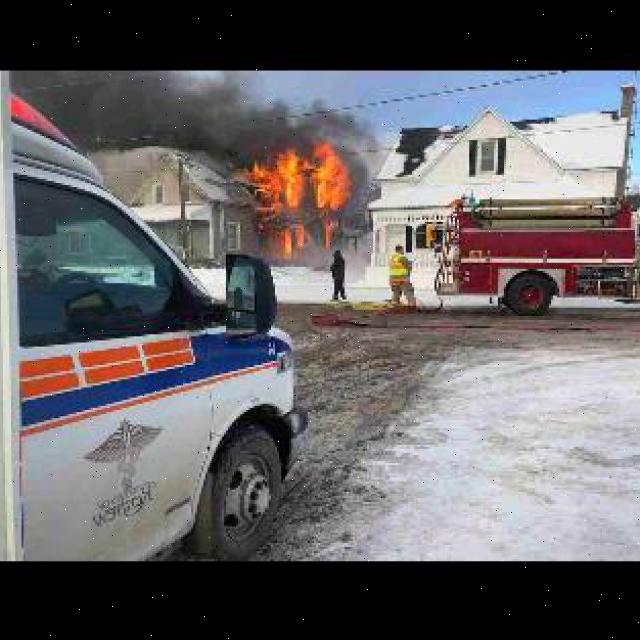fire: (250, 138, 352, 259)
smoke: (44, 73, 265, 152), (260, 89, 388, 134), (347, 136, 373, 216)
